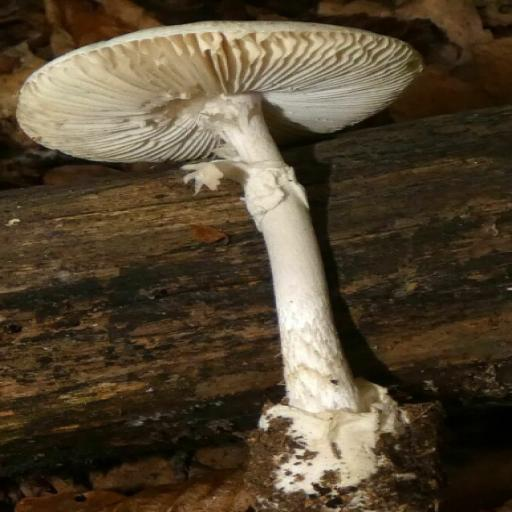Death Cap: (12, 6, 446, 512)
